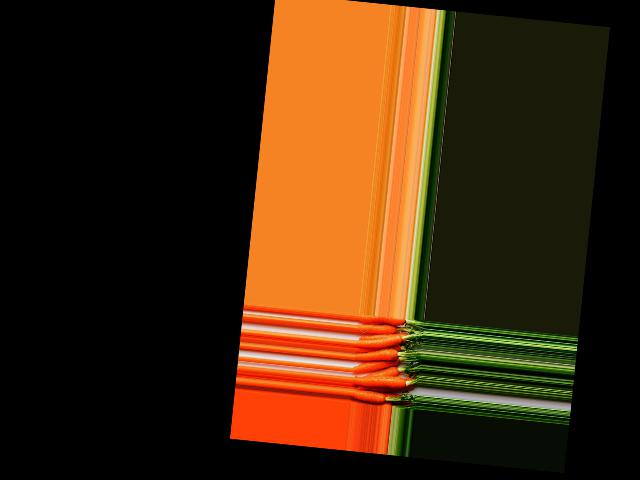carrot: (348, 389, 392, 406)
